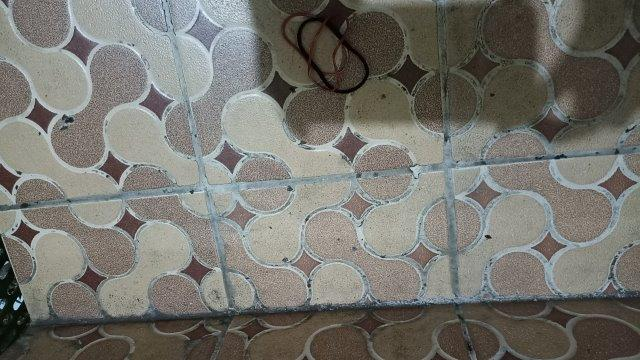karet: (281, 13, 369, 94)
